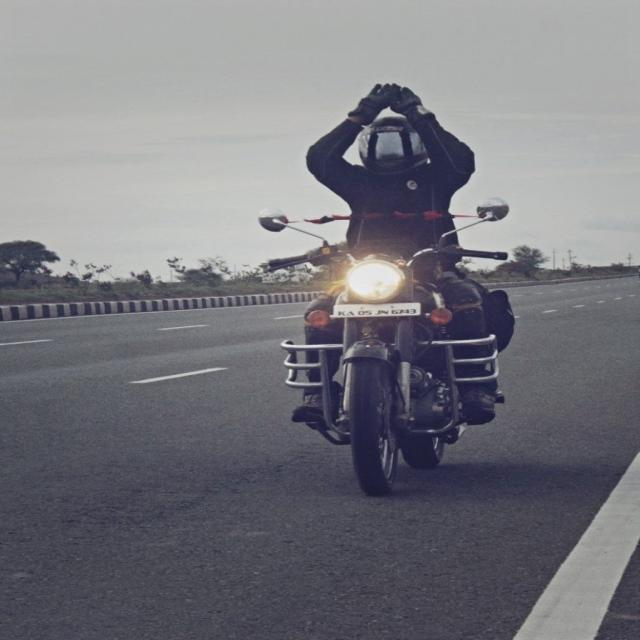license_plate: (330, 302, 421, 318)
